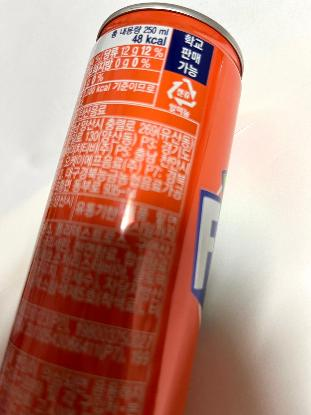Can: (0, 0, 252, 415)
